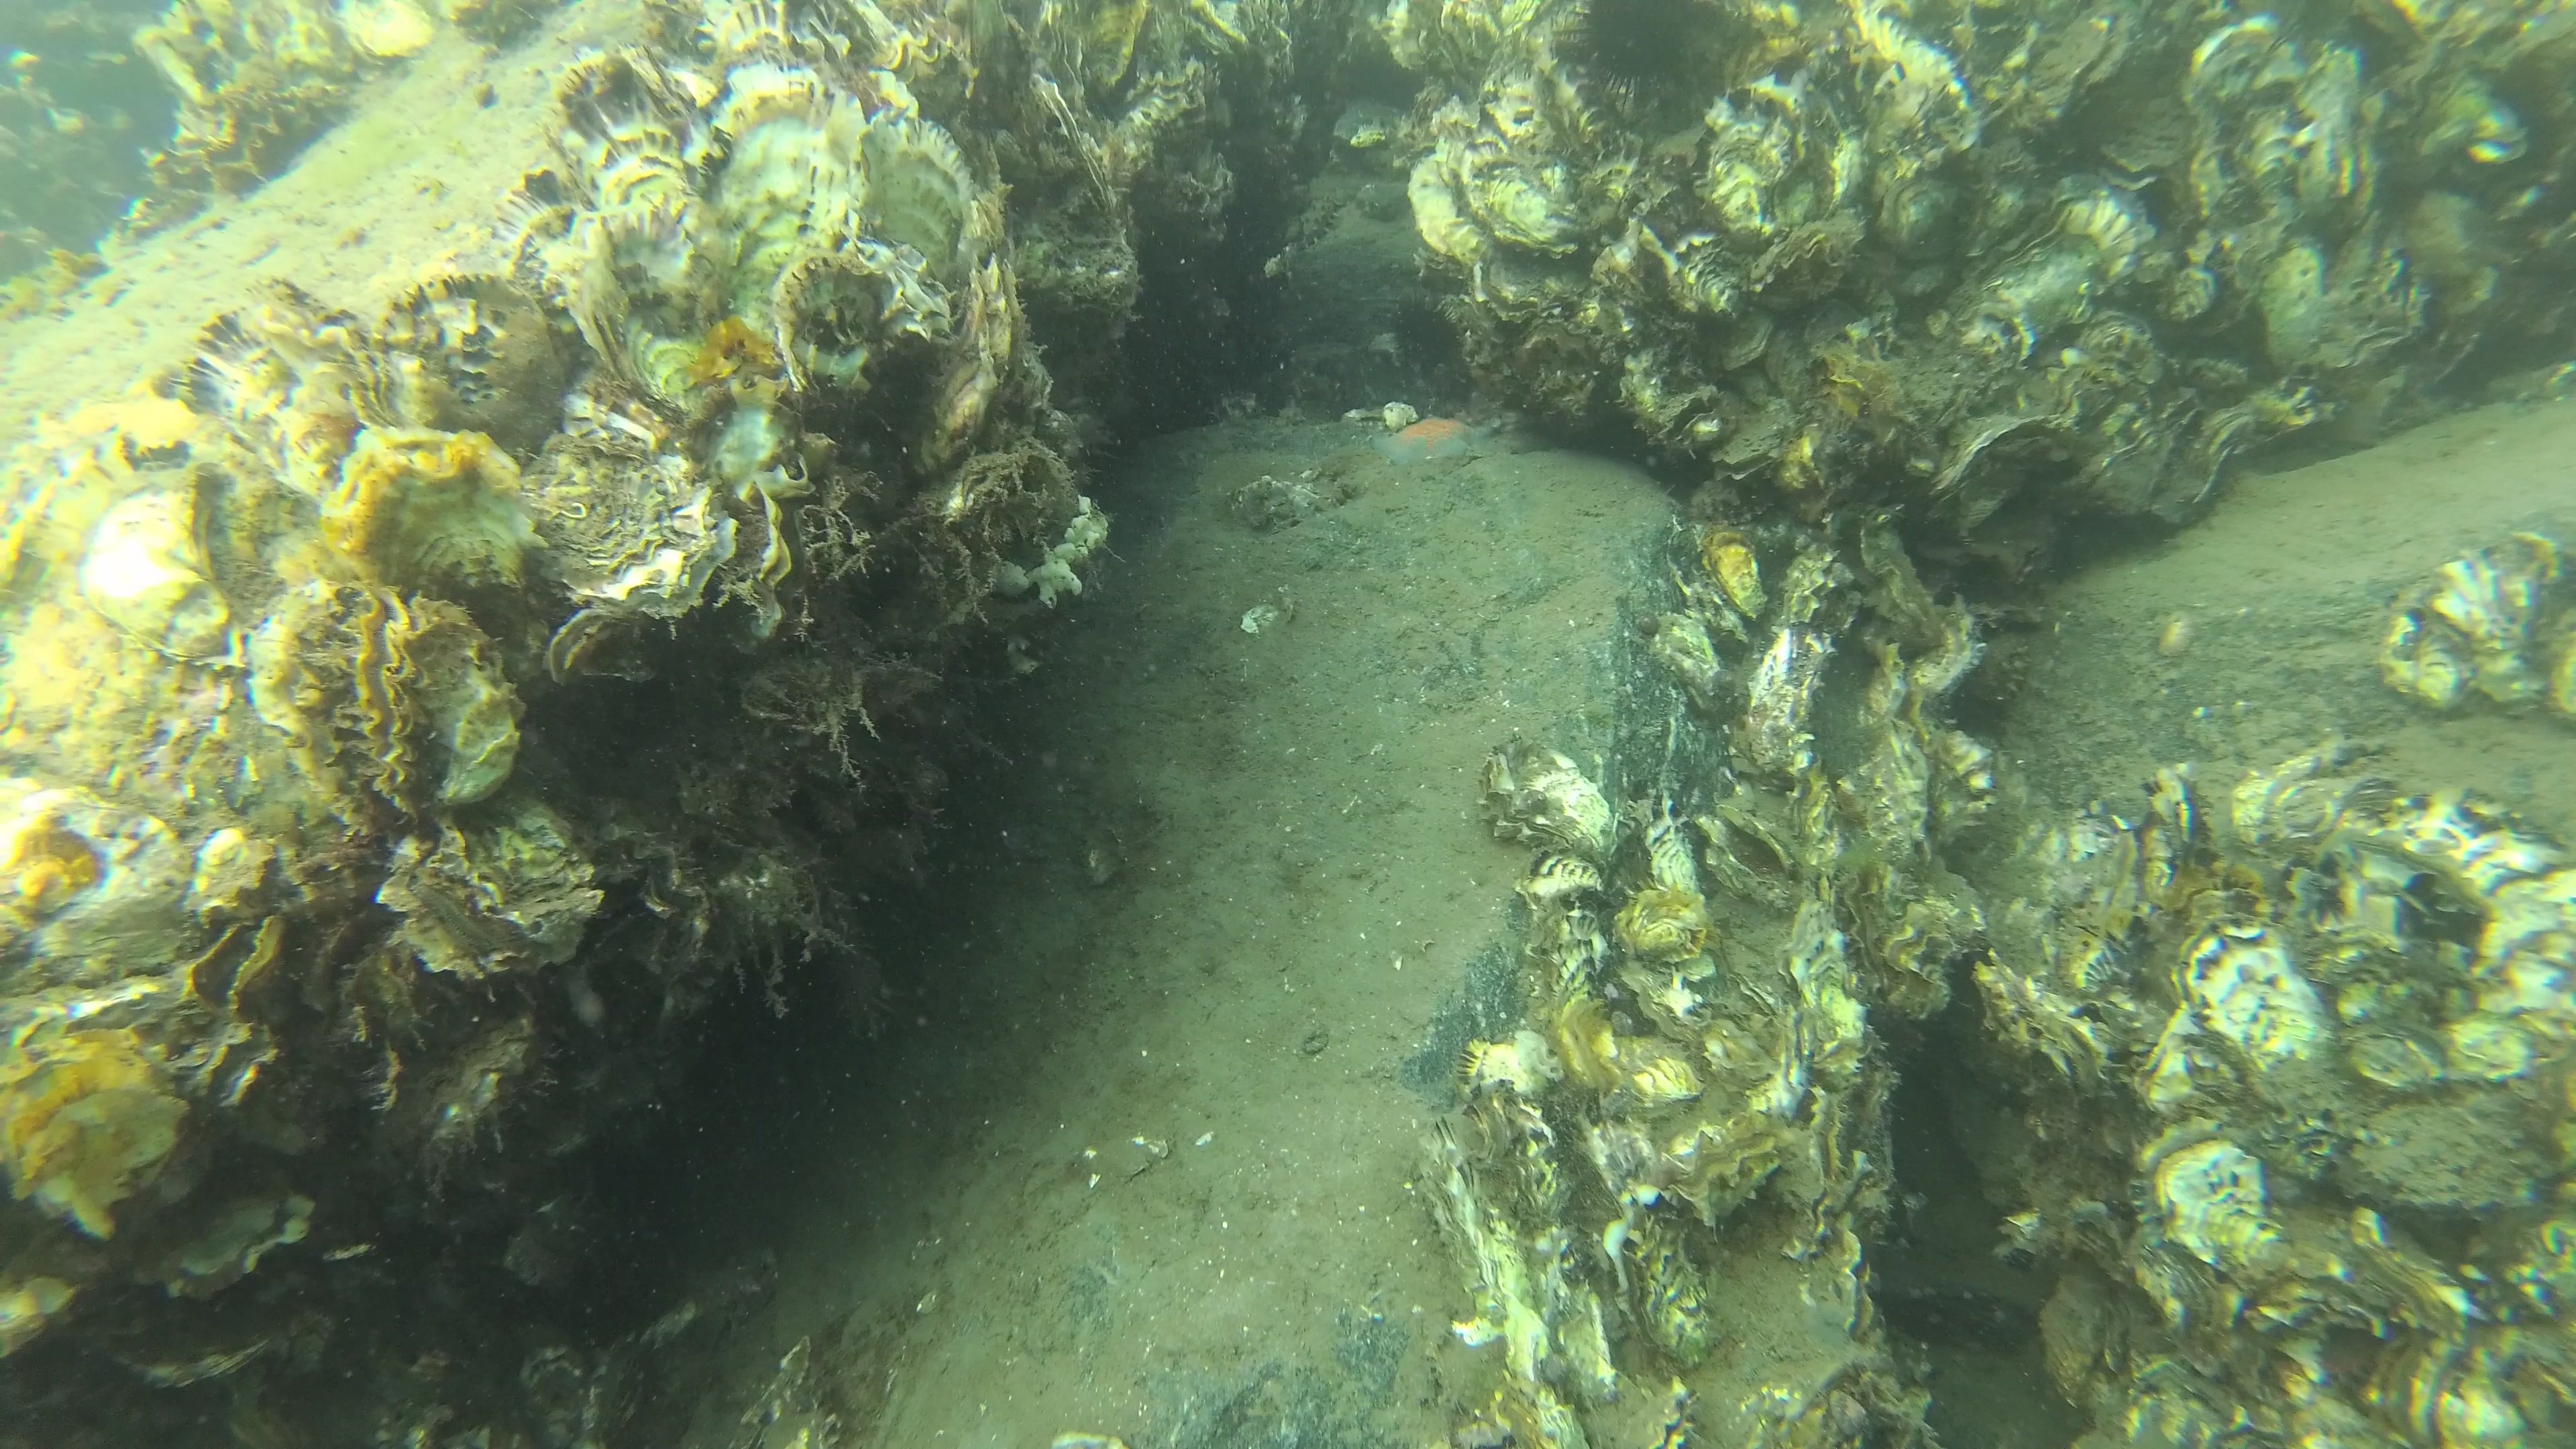echinus: (1555, 0, 1741, 108)
starfish: (1371, 409, 1511, 474)
